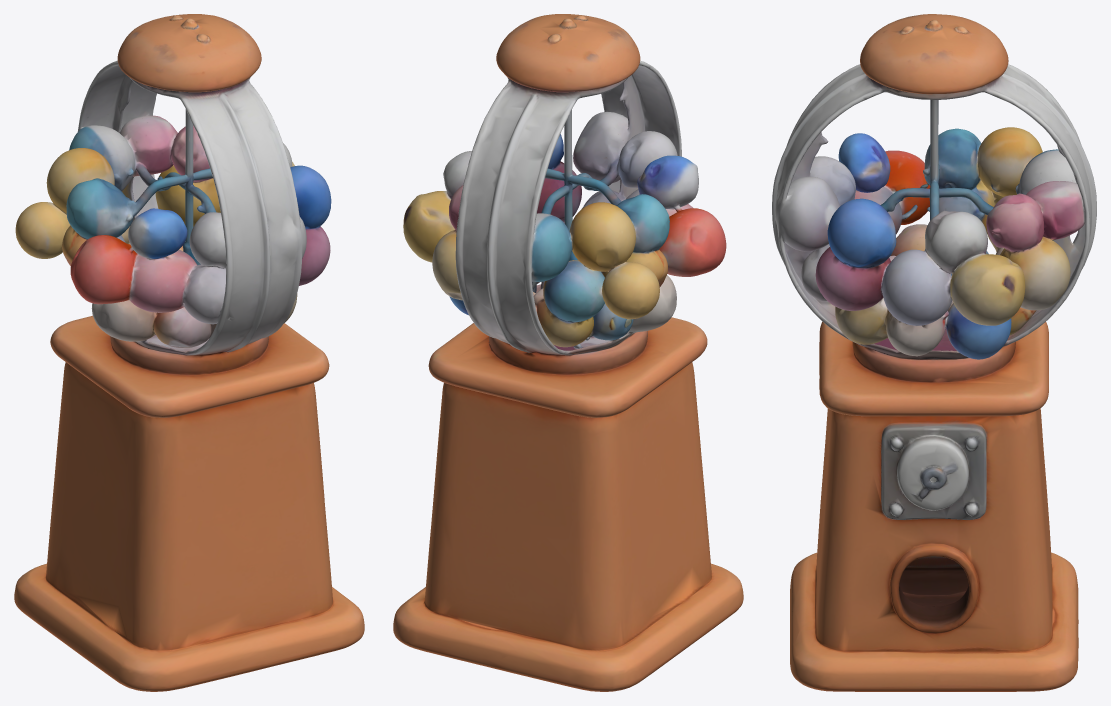
File: prop-gumball-machine.glb
3 renders of one model, left to right at view 1: azimuth 30°, elevation 25°; view 2: azimuth 150°, elevation 25°; view 3: azimuth 270°, elevation 25°, orthographic. The views are drawn at different scales.
Visible parts, largest first — view 1: tripo_node_a36885b0-eef9-461e-bbcd-fd84cb3fffa3; view 2: tripo_node_a36885b0-eef9-461e-bbcd-fd84cb3fffa3; view 3: tripo_node_a36885b0-eef9-461e-bbcd-fd84cb3fffa3.
Boxes of the visible parts, box(x1,y1,x2,y2) form: tripo_node_a36885b0-eef9-461e-bbcd-fd84cb3fffa3: box(14, 14, 364, 691); tripo_node_a36885b0-eef9-461e-bbcd-fd84cb3fffa3: box(393, 14, 743, 691); tripo_node_a36885b0-eef9-461e-bbcd-fd84cb3fffa3: box(772, 14, 1096, 691).
Bounding box in the file's own units: 0.6865 × 1.5 × 0.7127.
Materials: 1 (1 with a texture image).
